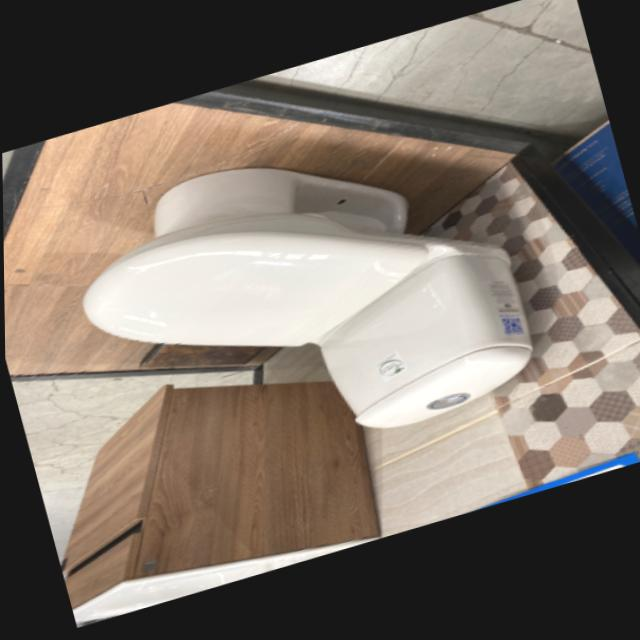toilet: (54, 99, 545, 511)
